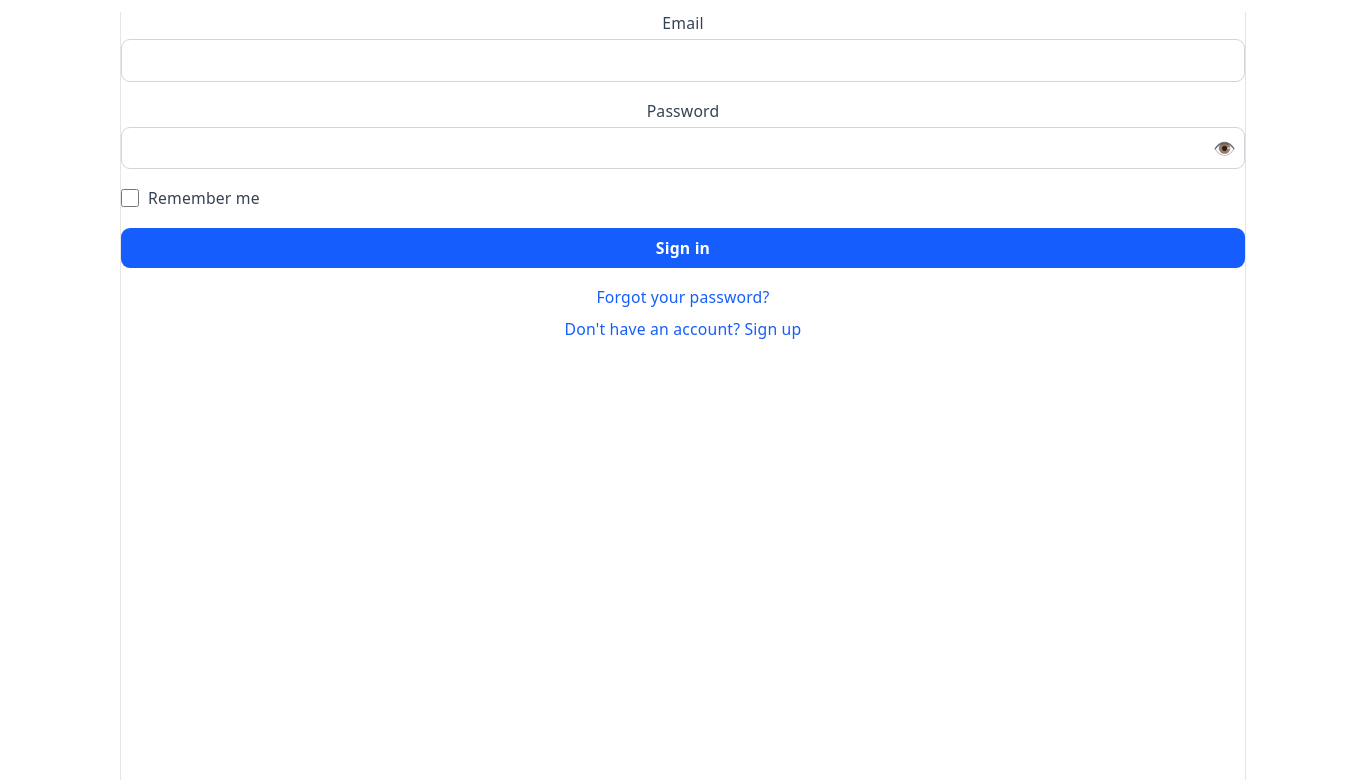
Scenario: LoginForm › password toggle changes input type and aria-label
Click the button named "show password" at (1225,148), box [1213,135,1236,161]
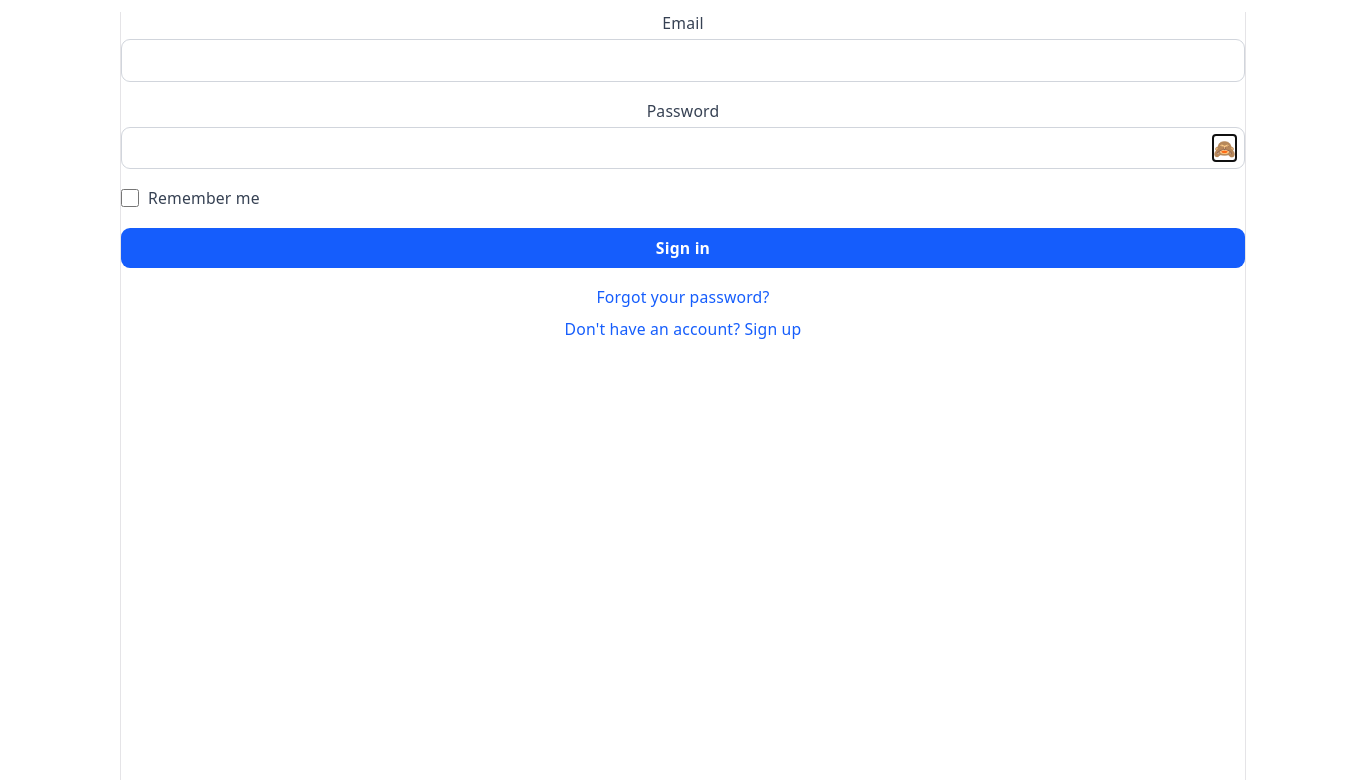
Expected: the button named "hide password" is shown, [1213,135,1236,161]
